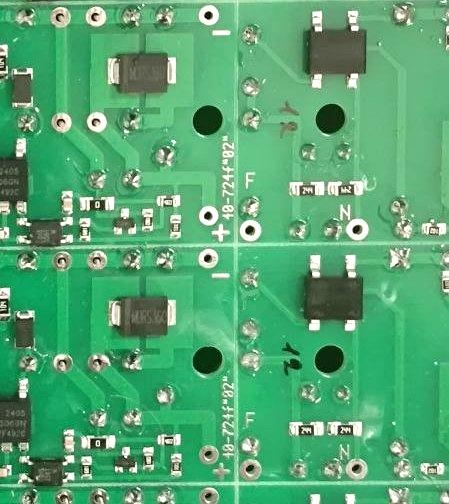chip-capacitor: (60, 189, 73, 215), (63, 428, 75, 453), (0, 463, 14, 478)
chip-resistor: (327, 179, 364, 197), (287, 420, 324, 438), (326, 420, 364, 437), (78, 195, 115, 212), (288, 181, 326, 197), (79, 434, 117, 450), (420, 221, 447, 237), (0, 286, 12, 322), (168, 213, 183, 240), (169, 451, 184, 478), (157, 432, 183, 447), (156, 193, 181, 208), (140, 207, 154, 233), (419, 462, 445, 476), (79, 216, 92, 243), (80, 454, 93, 481), (142, 445, 155, 472), (0, 43, 9, 80), (439, 268, 449, 294)
diode: (105, 50, 180, 95), (106, 294, 180, 338), (10, 66, 35, 110), (12, 308, 36, 352)
ic: (307, 8, 369, 91), (303, 252, 365, 332), (14, 215, 75, 246), (17, 455, 77, 485)
transistor: (111, 207, 139, 236), (113, 445, 139, 476)
